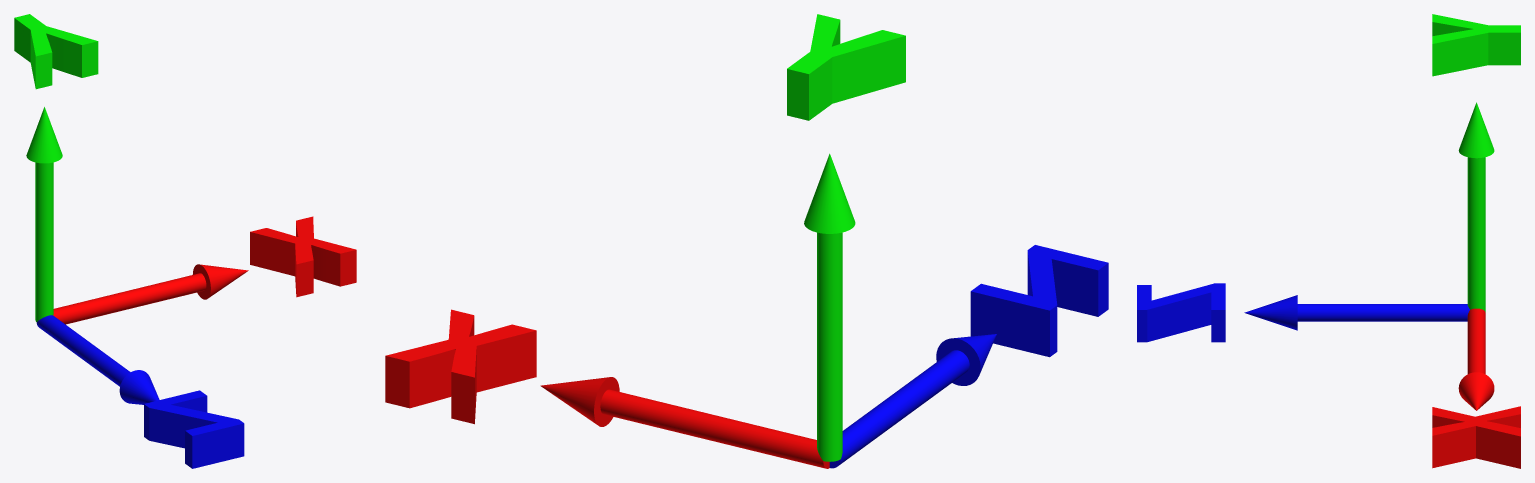
File: XYZ-Lambert.fbx
3 renders of one model, left to right at view 1: azimuth 30°, elevation 25°; view 2: azimuth 150°, elevation 25°; view 3: azimuth 270°, elevation 25°, orthographic. The views are drawn at different scales.
Parts seen in each view (by area): view 1: Z, X, Y-Axis, Y, X-Axis, Z-Axis; view 2: X, Z, Y-Axis, X-Axis, Y, Z-Axis; view 3: X, Y, Z, Z-Axis, Y-Axis, X-Axis.
Part boxes in pixels (left/top/right/bottom): Z: left=144, top=390, right=244, bottom=468; X: left=250, top=216, right=356, bottom=297; Y-Axis: left=26, top=107, right=62, bottom=321; Y: left=14, top=14, right=98, bottom=89; X-Axis: left=53, top=264, right=248, bottom=324; Z-Axis: left=36, top=315, right=159, bottom=404; X: left=385, top=309, right=536, bottom=424; Z: left=970, top=245, right=1108, bottom=357; Y-Axis: left=804, top=153, right=855, bottom=461; X-Axis: left=540, top=377, right=829, bottom=468; Y: left=787, top=14, right=905, bottom=120; Z-Axis: left=829, top=334, right=996, bottom=468; X: left=1432, top=406, right=1520, bottom=468; Y: left=1432, top=14, right=1520, bottom=76; Z: left=1137, top=283, right=1225, bottom=342; Z-Axis: left=1244, top=295, right=1469, bottom=330; Y-Axis: left=1458, top=102, right=1494, bottom=312; X-Axis: left=1458, top=308, right=1494, bottom=410.
Size of the model in its own units: 2.05 by 1.85 by 2.15.
